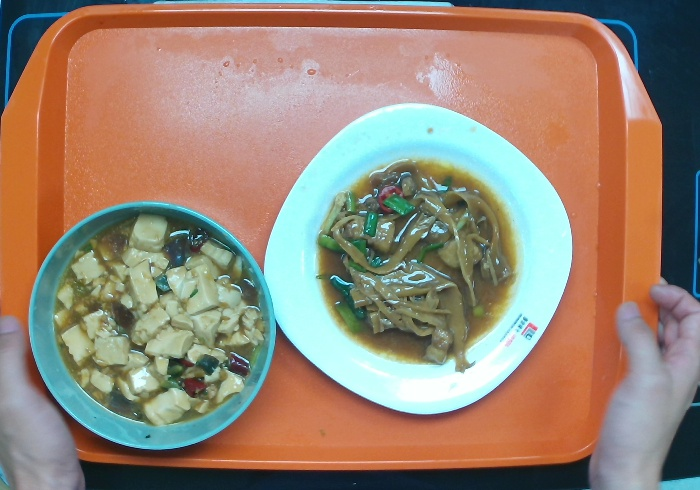ZNLD-Qing_Hua_Yuan_Wan: (24, 200, 277, 454)
ZNLD-Yuan_Jiao_Pan: (261, 95, 577, 419)
